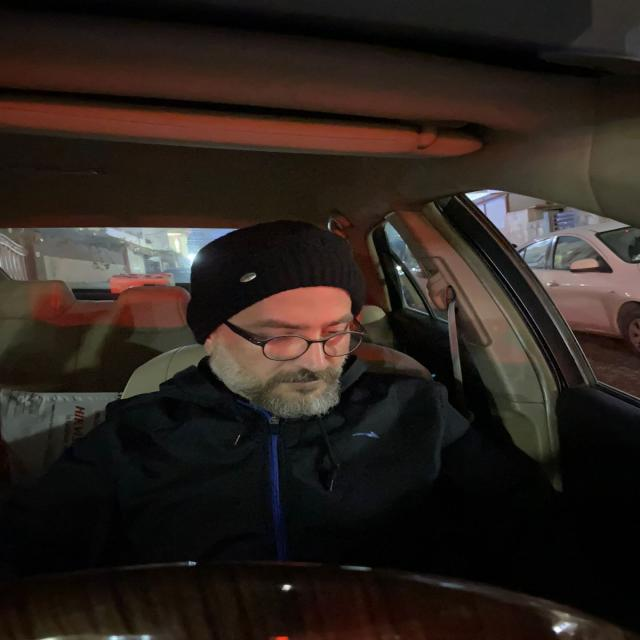drowsy: (183, 214, 377, 422)
